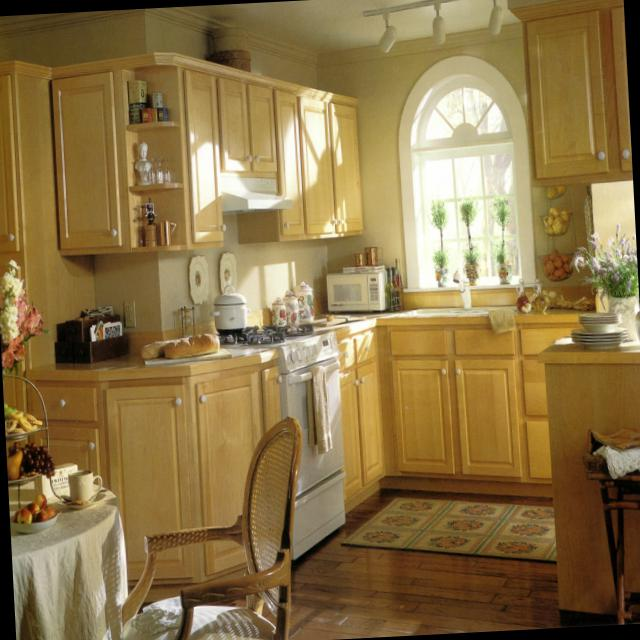2001: (408, 75, 522, 285)
2018: (149, 152, 171, 181)
basket crop: (210, 49, 252, 71), (212, 27, 249, 51)
basket of plants: (539, 204, 571, 234)
basket of towels: (538, 250, 572, 280)
basket table: (544, 185, 568, 202)
bottles occluded: (386, 257, 403, 311)
bowl of flowers: (11, 494, 59, 533)
box of vegetables: (34, 462, 75, 495), (128, 80, 147, 102), (131, 104, 139, 123)
bread box: (140, 331, 217, 358)
cabinet door: (537, 336, 640, 620), (511, 0, 633, 187)
cabinets: (52, 52, 364, 256), (26, 359, 282, 599), (337, 322, 579, 516), (0, 60, 96, 408)
ceiling beam: (179, 0, 519, 53)
chair -occluded-: (120, 414, 301, 640)
counter: (26, 345, 279, 380), (296, 308, 578, 338)
crackers: (10, 408, 40, 431)
cup and saucer: (363, 247, 383, 264), (354, 253, 365, 268)
cutting board with vegetables: (143, 347, 229, 366), (311, 314, 366, 327)
decorative bottle -X: (177, 305, 195, 335)
decorative plate: (188, 254, 207, 305), (219, 253, 237, 291)
dish towels: (489, 309, 515, 333)
electrical outlet: (123, 300, 139, 326)
faucet handle: (451, 273, 470, 308)
flowers in pot: (0, 257, 48, 376)
garlic: (545, 288, 595, 312)
garlic braid: (521, 302, 531, 312)
grapes: (16, 444, 54, 476)
jar -X: (295, 279, 314, 321), (271, 294, 287, 326), (284, 289, 299, 322)
kitchen hood: (125, 486, 640, 640)
kitchen unit: (304, 364, 332, 454)
lights: (362, 0, 465, 54), (486, 0, 505, 35)
magazine holder: (591, 425, 640, 453)
microwave oven: (324, 268, 389, 310)
mill: (137, 199, 155, 245)
mug: (68, 470, 102, 503), (160, 220, 176, 244)
oil jar: (532, 278, 548, 313)
organizer: (56, 307, 128, 362)
oven light switch: (220, 176, 292, 213)
pear: (7, 448, 23, 478)
plant -x: (571, 222, 640, 348), (459, 197, 479, 286), (492, 194, 512, 282), (430, 198, 450, 284)
plates: (569, 313, 628, 349)
pot hanger: (213, 289, 249, 327)
pot of flowers: (582, 183, 596, 274)
rug -partially obscured-: (340, 495, 555, 560)
sculpture -X: (133, 140, 151, 184)
sink basin: (407, 304, 515, 316)
small ladle: (327, 314, 332, 320)
stack of books: (341, 264, 385, 274)
stool crop: (581, 429, 640, 624)
stove burner: (190, 325, 346, 566)
tablecloth: (13, 494, 129, 640)
tins: (141, 86, 168, 121)
towel basket: (593, 445, 640, 480)
vinegar jar: (514, 276, 529, 312)
wall clock: (0, 7, 595, 353)
